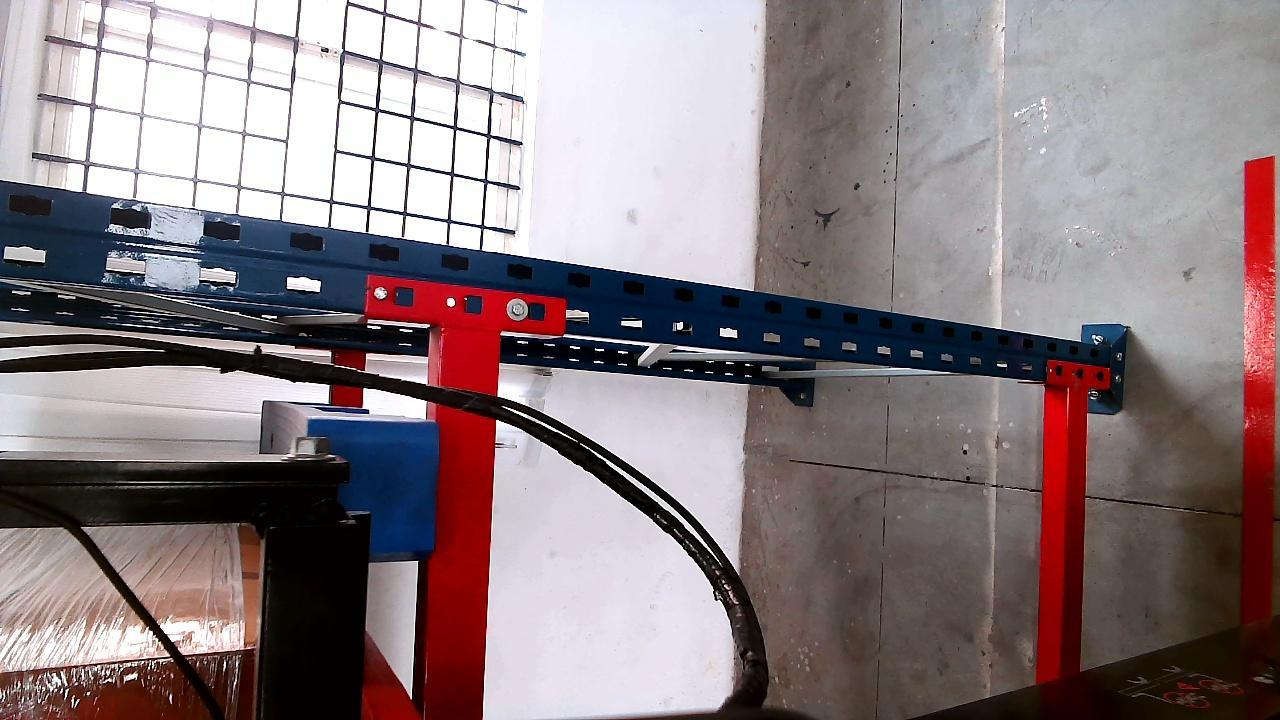red_line: (1242, 154, 1276, 625)
